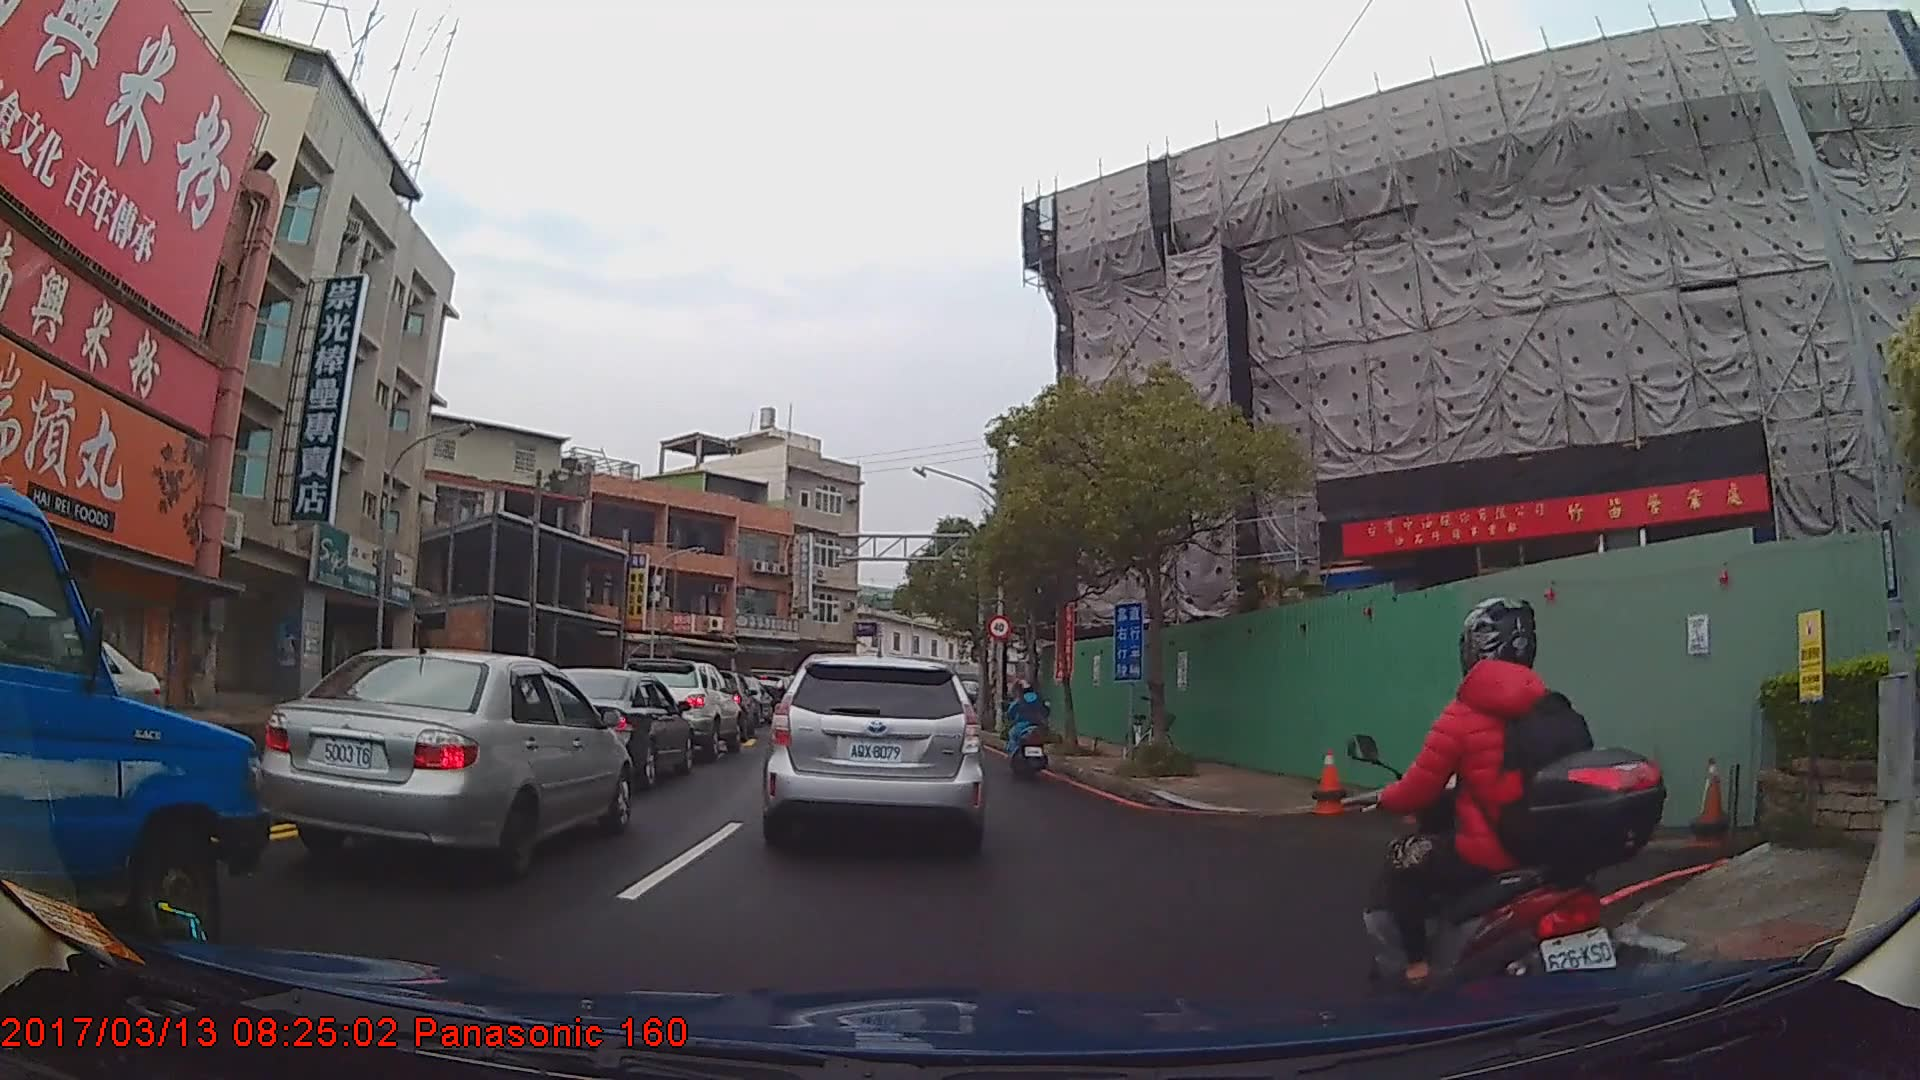rider: (1353, 590, 1669, 1053), (1002, 681, 1052, 782)
vehicle: (0, 484, 266, 960), (257, 647, 631, 879), (765, 652, 983, 851), (535, 667, 695, 788), (615, 656, 741, 762)
